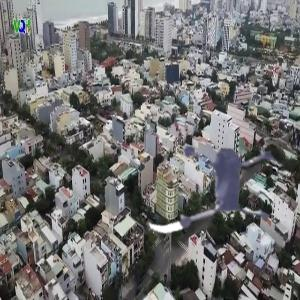drone: (130, 94, 297, 261)
